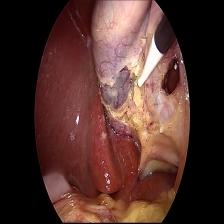Hook: (132, 37, 172, 89)
